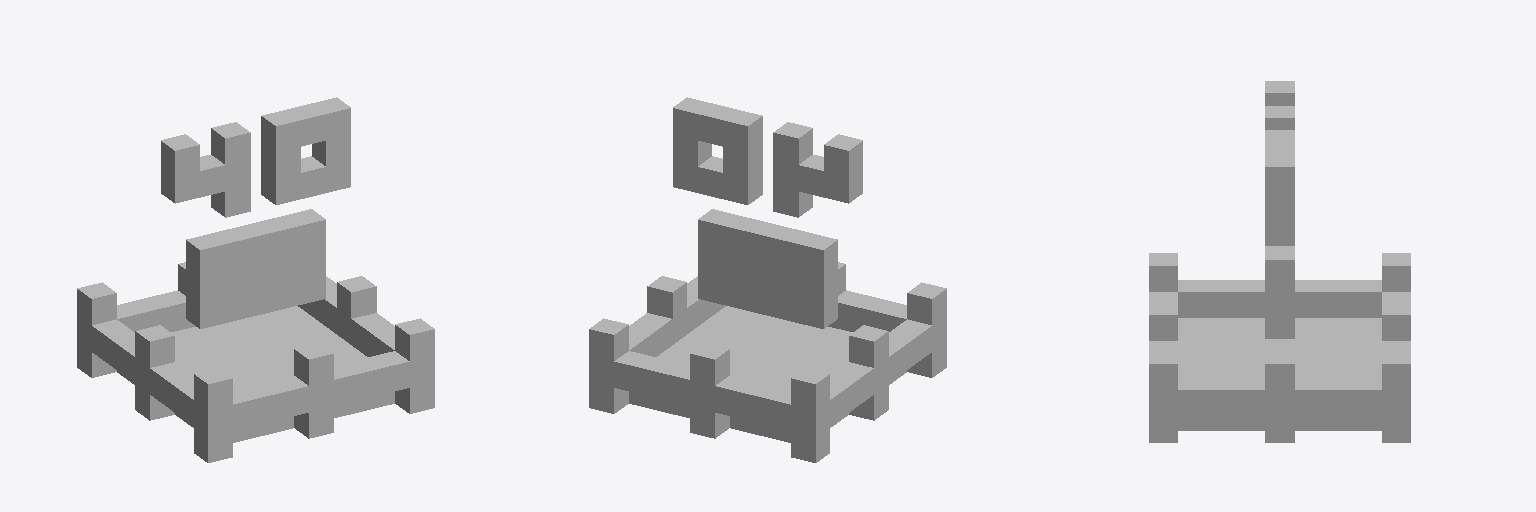
File: Locked 40.obj
3 views of the same model, side by side, from view 1: azimuth 30°, elevation 25°; view 2: azimuth 150°, elevation 25°; view 3: azimuth 270°, elevation 25° (orthographic).
Parts seen in each view (by area): view 1: object 1; view 2: object 1; view 3: object 1.
Boxes of the visible parts, x1=… form: object 1: x1=77, y1=97, x2=434, y2=462; object 1: x1=589, y1=97, x2=946, y2=462; object 1: x1=1149, y1=81, x2=1410, y2=442.
Size of the model in its own units: 0.9 by 1 by 0.9.